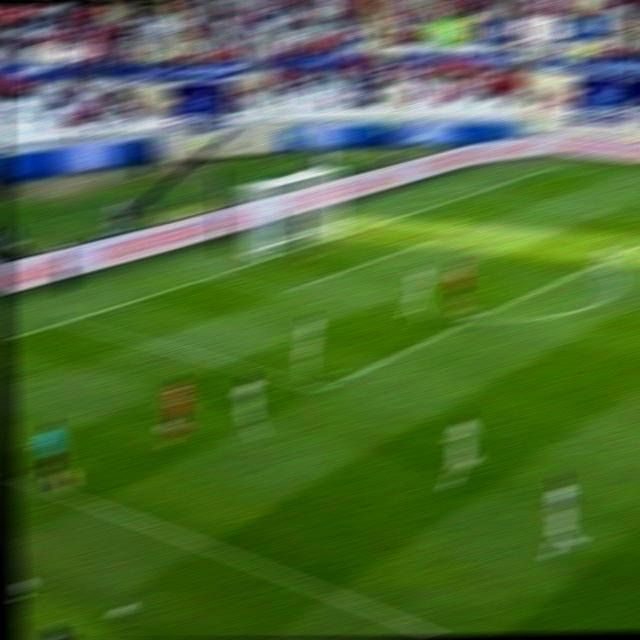bigarea_bottom_inner: (303, 371, 340, 405)
bigarea_bottom_outter: (53, 309, 81, 330)
bigarea_top_outter: (458, 185, 485, 200)
bottom_arc_area_intersection: (459, 308, 487, 329)
corner: (545, 160, 571, 171)
smallarea_bottom_inner: (270, 281, 297, 302)
smallarea_bottom_outter: (198, 266, 225, 285)
smallarea_top_inner: (434, 221, 467, 241)
smallarea_top_outter: (374, 211, 402, 229)
top_arc_area_intersection: (589, 255, 610, 269)
